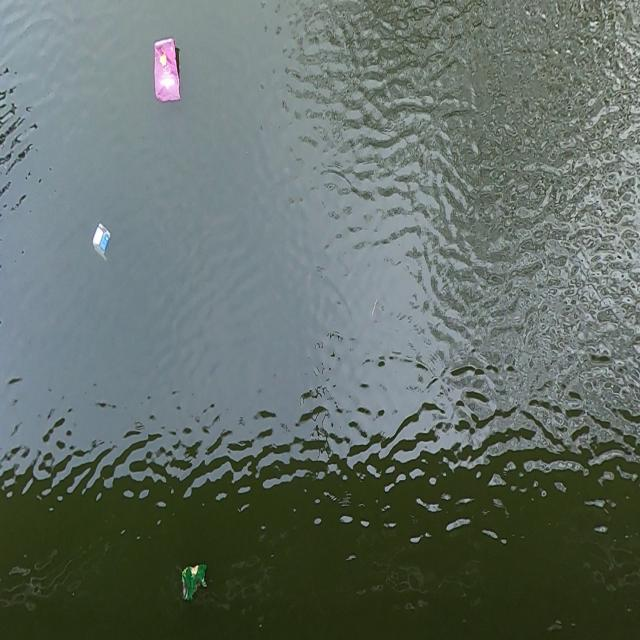Autre plastique: (154, 38, 181, 102)
Sac plastique: (183, 564, 208, 600)
